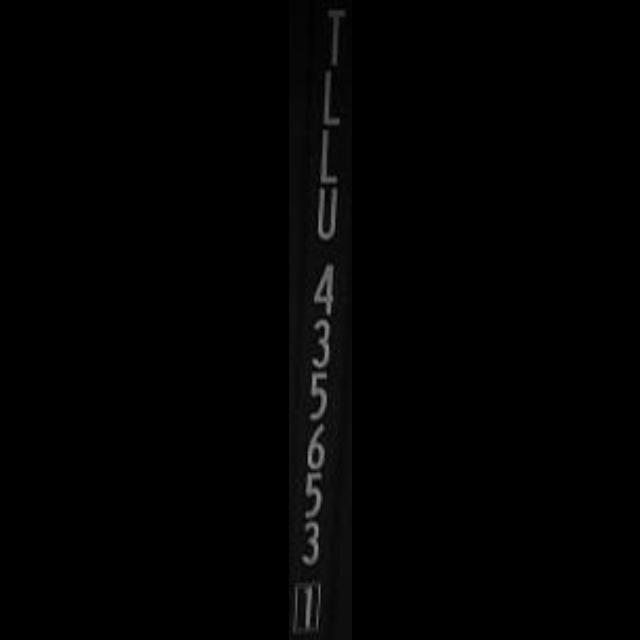3: (304, 320, 338, 376)
4: (306, 258, 342, 324)
5: (300, 371, 338, 425)
6: (298, 468, 332, 524), (302, 424, 334, 474)
l: (307, 127, 349, 187), (311, 70, 351, 130)
t: (313, 2, 352, 72)
u: (304, 183, 350, 244)
